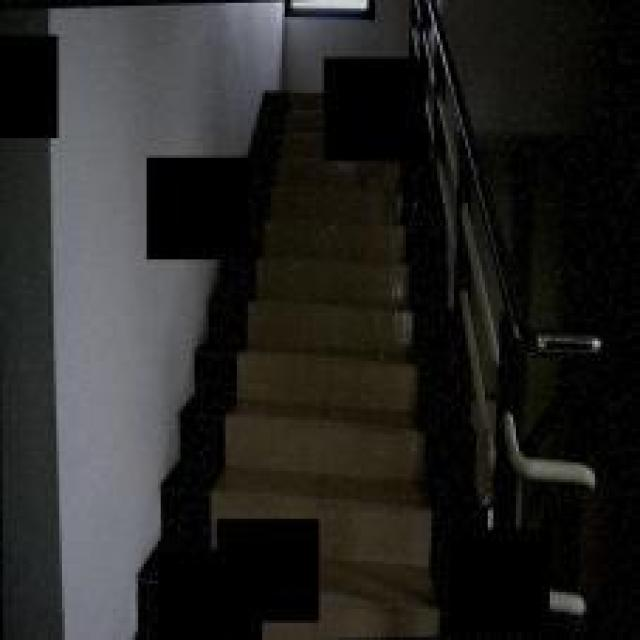upstair: (235, 128, 435, 632)
